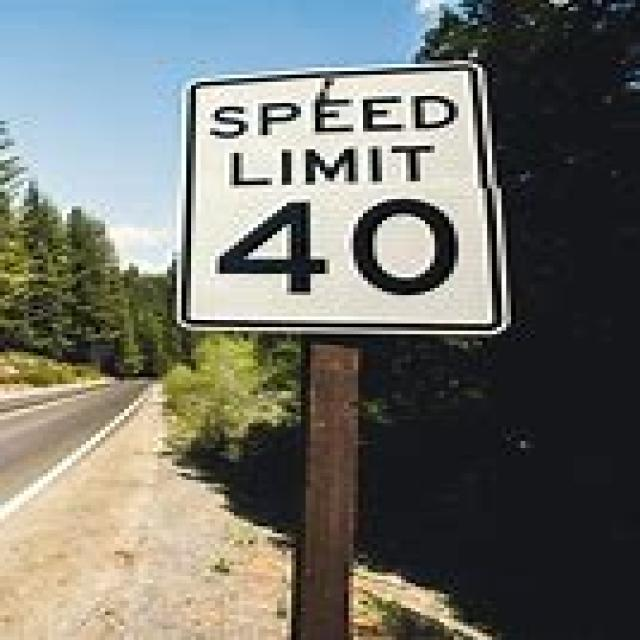speedLimit40: (184, 78, 509, 338)
